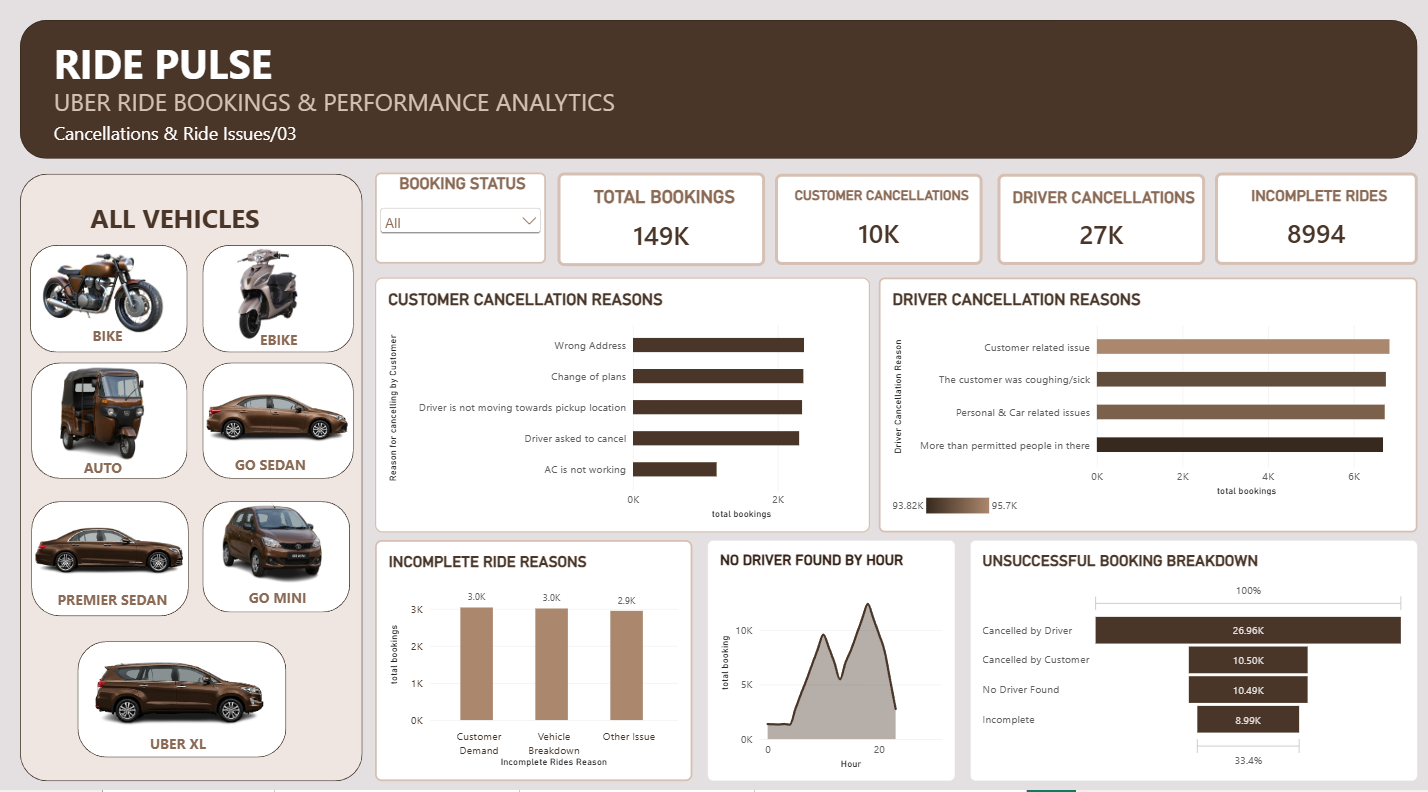

Layout of this report page (visuals, bound fields, positions):
{"tool":"powerbi","page":{"name":"Cancellations & Ride Issues","canvas":[1920,1080],"ordinal":2},"visuals":[{"type":"card","title":"TOTAL BOOKINGS","fields":{"Values":["ncr_ride_bookings_cleaned.Total Bookings"]},"box":[750,236.7,276.7,125],"z":0},{"type":"slicer","title":"VEHICLE TYPE","fields":{"Values":["ncr_ride_bookings_cleaned.Vehicle Type"]},"box":[525,48.3,224.3,99.7],"z":1000},{"type":"shape","box":[33.3,33.3,1863.3,185],"z":2000},{"type":"textbox","box":[77.5,55,1665,92.5],"z":3000},{"type":"textbox","box":[77.5,120,1744.3,73.8],"z":4000},{"type":"textbox","box":[77.5,167.5,1422.2,57],"z":5000},{"type":"card","title":"CUSTOMER CANCELLATIONS","fields":{"Values":["ncr_ride_bookings_cleaned.Customer Cancellations"]},"box":[1040,238.3,276.7,121.7],"z":6000},{"type":"card","title":"DRIVER CANCELLATIONS","fields":{"Values":["ncr_ride_bookings_cleaned.Driver Cancellations"]},"box":[1336.7,238.3,276.7,121.7],"z":7000},{"type":"card","title":"INCOMPLETE RIDES","fields":{"Values":["ncr_ride_bookings_cleaned.Incomplete Bookings"]},"box":[1626.7,236.7,270,123.3],"z":8000},{"type":"image","title":"uber xl","box":[130,853.8,255,142.5],"z":8006,"group":"g6"},{"type":"image","title":"auto","box":[85.8,473.3,114.8,175],"z":8007,"group":"g1"},{"type":"image","title":"go mini","box":[275,645,187.3,152.5],"z":8008,"group":"g2"},{"type":"image","title":"premium sedan","box":[46.7,661.7,210,168.3],"z":8009,"group":"g5"},{"type":"image","title":"go sedan","box":[276.7,490,206.4,154.1],"z":8010,"group":"g3"},{"type":"image","title":"ebike","box":[283.3,316.7,180.8,163.3],"z":8011,"group":"g7"},{"type":"image","title":"bike","box":[35.8,316.7,210,160],"z":8012,"group":"g4"},{"type":"actionButton","title":"auto Button","box":[73.3,498.1,145,120.1],"z":8013,"group":"g1"},{"type":"actionButton","title":"mini button","box":[283.1,660,192.5,120],"z":8015,"group":"g2"},{"type":"actionButton","title":"go sedan button","box":[294.1,516.3,194.8,92.1],"z":8017,"group":"g3"},{"type":"actionButton","title":"bike button","box":[28.3,336.7,205,105],"z":8019,"group":"g4"},{"type":"actionButton","title":"premiur sedan button","box":[72.3,686.6,151.7,105.9],"z":8021,"group":"g5"},{"type":"actionButton","title":"uber xl button","box":[129.4,861.9,222.5,142.5],"z":8023,"group":"g6"},{"type":"actionButton","title":"ebike button","box":[284.9,342.7,177.7,123.1],"z":8025,"group":"g7"},{"type":"clusteredBarChart","title":"CUSTOMER CANCELLATION REASONS","fields":{"Category":["ncr_ride_bookings_cleaned.Reason for cancelling by Customer"],"Y":["Count(ncr_ride_bookings_cleaned.Booking ID)"]},"box":[506.7,376.7,660,340],"z":9000},{"type":"columnChart","title":"INCOMPLETE RIDE REASONS","fields":{"Category":["ncr_ride_bookings_cleaned.Incomplete Rides Reason"],"Y":["Count(ncr_ride_bookings_cleaned.Booking ID)"]},"box":[506.7,726.7,423.3,321.7],"z":10000},{"type":"barChart","title":"DRIVER CANCELLATION REASONS","fields":{"Category":["ncr_ride_bookings_cleaned.Driver Cancellation Reason"],"Y":["Count(ncr_ride_bookings_cleaned.Booking ID)"]},"box":[1178,376,718,340],"z":11000},{"type":"slicer","title":"BOOKING STATUS","fields":{"Values":["ncr_ride_bookings_cleaned.Booking Status"]},"box":[506.7,236.7,228.3,121.7],"z":12000},{"type":"shape","box":[33.3,238.3,456.7,810],"z":13000},{"type":"shape","box":[46.7,333.3,210,143.3],"z":14000},{"type":"shape","box":[276.7,333.3,201.7,143.3],"z":15000},{"type":"shape","box":[48.3,490,208.3,155],"z":16000},{"type":"shape","box":[276.7,490,201.7,155],"z":17000},{"type":"shape","box":[48.3,675,210,153.3],"z":18000},{"type":"shape","box":[276.7,675,196.7,148.3],"z":19000},{"type":"shape","box":[110,861.7,278.3,155],"z":20000},{"type":"group","id":"g1","title":"Group 1","box":[73.3,473.3,145,175],"z":21000},{"type":"group","id":"g2","title":"Group 2","box":[275,645,200,153.3],"z":22000},{"type":"group","id":"g3","title":"Group 3","box":[276.7,490,213.3,155],"z":23000},{"type":"group","id":"g4","title":"Group 4","box":[28.3,316.7,216.7,160],"z":24000},{"type":"group","id":"g5","title":"Group 5","box":[46.7,661.7,210,168.3],"z":25000},{"type":"group","id":"g6","title":"Group 6","box":[129.4,853.8,255.6,150.6],"z":26000},{"type":"group","id":"g7","title":"Group 7","box":[283.3,316.7,181.7,163.3],"z":27000},{"type":"actionButton","box":[110,266.7,260,58.3],"z":28000},{"type":"textbox","box":[130,441.7,71.7,31.7],"z":29000},{"type":"textbox","box":[353.3,446.7,78.3,38.3],"z":30000},{"type":"textbox","box":[118.3,616.7,83.3,31.7],"z":31000},{"type":"textbox","box":[320,613.3,111.7,31.7],"z":32000},{"type":"textbox","box":[83.3,793.3,151.7,45],"z":33000},{"type":"textbox","box":[338.3,790,98.3,33.3],"z":34000},{"type":"textbox","box":[206.7,985,86.7,31.7],"z":35000},{"type":"funnel","title":"UNSUCCESSFUL BOOKING BREAKDOWN","fields":{"Category":["ncr_ride_bookings_cleaned.Booking Status"],"Y":["Count(ncr_ride_bookings_cleaned.Booking ID)"]},"box":[1300,726.7,596.7,321.7],"z":37000},{"type":"areaChart","title":"NO DRIVER FOUND BY HOUR","fields":{"Category":["ncr_ride_bookings_cleaned.Hour"],"Y":["Count(ncr_ride_bookings_cleaned.Booking ID)"]},"box":[950,726.7,330,321.7],"z":37001}]}

Visuals, with their boxes in screenshot pixels (x1, y1, x2, y2), scaled from the page's 1920x1080 canvas onto the 1428x792 screenshot:
"TOTAL BOOKINGS" card: (x1=558, y1=174, x2=764, y2=265)
"VEHICLE TYPE" slicer: (x1=390, y1=35, x2=557, y2=109)
shape: (x1=25, y1=24, x2=1411, y2=160)
textbox: (x1=58, y1=40, x2=1296, y2=108)
textbox: (x1=58, y1=88, x2=1355, y2=142)
textbox: (x1=58, y1=123, x2=1115, y2=165)
"CUSTOMER CANCELLATIONS" card: (x1=774, y1=175, x2=979, y2=264)
"DRIVER CANCELLATIONS" card: (x1=994, y1=175, x2=1200, y2=264)
"INCOMPLETE RIDES" card: (x1=1210, y1=174, x2=1411, y2=264)
"uber xl" image: (x1=97, y1=626, x2=286, y2=731)
"auto" image: (x1=64, y1=347, x2=149, y2=475)
"go mini" image: (x1=205, y1=473, x2=344, y2=585)
"premium sedan" image: (x1=35, y1=485, x2=191, y2=609)
"go sedan" image: (x1=206, y1=359, x2=359, y2=472)
"ebike" image: (x1=211, y1=232, x2=345, y2=352)
"bike" image: (x1=27, y1=232, x2=183, y2=350)
"auto Button" actionButton: (x1=55, y1=365, x2=162, y2=453)
"mini button" actionButton: (x1=211, y1=484, x2=354, y2=572)
"go sedan button" actionButton: (x1=219, y1=379, x2=364, y2=446)
"bike button" actionButton: (x1=21, y1=247, x2=174, y2=324)
"premiur sedan button" actionButton: (x1=54, y1=504, x2=167, y2=581)
"uber xl button" actionButton: (x1=96, y1=632, x2=262, y2=737)
"ebike button" actionButton: (x1=212, y1=251, x2=344, y2=342)
"CUSTOMER CANCELLATION REASONS" clusteredBarChart: (x1=377, y1=276, x2=868, y2=526)
"INCOMPLETE RIDE REASONS" columnChart: (x1=377, y1=533, x2=692, y2=769)
"DRIVER CANCELLATION REASONS" barChart: (x1=876, y1=276, x2=1410, y2=525)
"BOOKING STATUS" slicer: (x1=377, y1=174, x2=547, y2=263)
shape: (x1=25, y1=175, x2=364, y2=769)
shape: (x1=35, y1=244, x2=191, y2=350)
shape: (x1=206, y1=244, x2=356, y2=350)
shape: (x1=36, y1=359, x2=191, y2=473)
shape: (x1=206, y1=359, x2=356, y2=473)
shape: (x1=36, y1=495, x2=192, y2=607)
shape: (x1=206, y1=495, x2=352, y2=604)
shape: (x1=82, y1=632, x2=289, y2=746)
"Group 1" group: (x1=55, y1=347, x2=162, y2=475)
"Group 2" group: (x1=205, y1=473, x2=353, y2=585)
"Group 3" group: (x1=206, y1=359, x2=364, y2=473)
"Group 4" group: (x1=21, y1=232, x2=182, y2=350)
"Group 5" group: (x1=35, y1=485, x2=191, y2=609)
"Group 6" group: (x1=96, y1=626, x2=286, y2=737)
"Group 7" group: (x1=211, y1=232, x2=346, y2=352)
actionButton: (x1=82, y1=196, x2=275, y2=238)
textbox: (x1=97, y1=324, x2=150, y2=347)
textbox: (x1=263, y1=328, x2=321, y2=356)
textbox: (x1=88, y1=452, x2=150, y2=475)
textbox: (x1=238, y1=450, x2=321, y2=473)
textbox: (x1=62, y1=582, x2=175, y2=615)
textbox: (x1=252, y1=579, x2=325, y2=604)
textbox: (x1=154, y1=722, x2=218, y2=746)
"UNSUCCESSFUL BOOKING BREAKDOWN" funnel: (x1=967, y1=533, x2=1411, y2=769)
"NO DRIVER FOUND BY HOUR" areaChart: (x1=707, y1=533, x2=952, y2=769)
